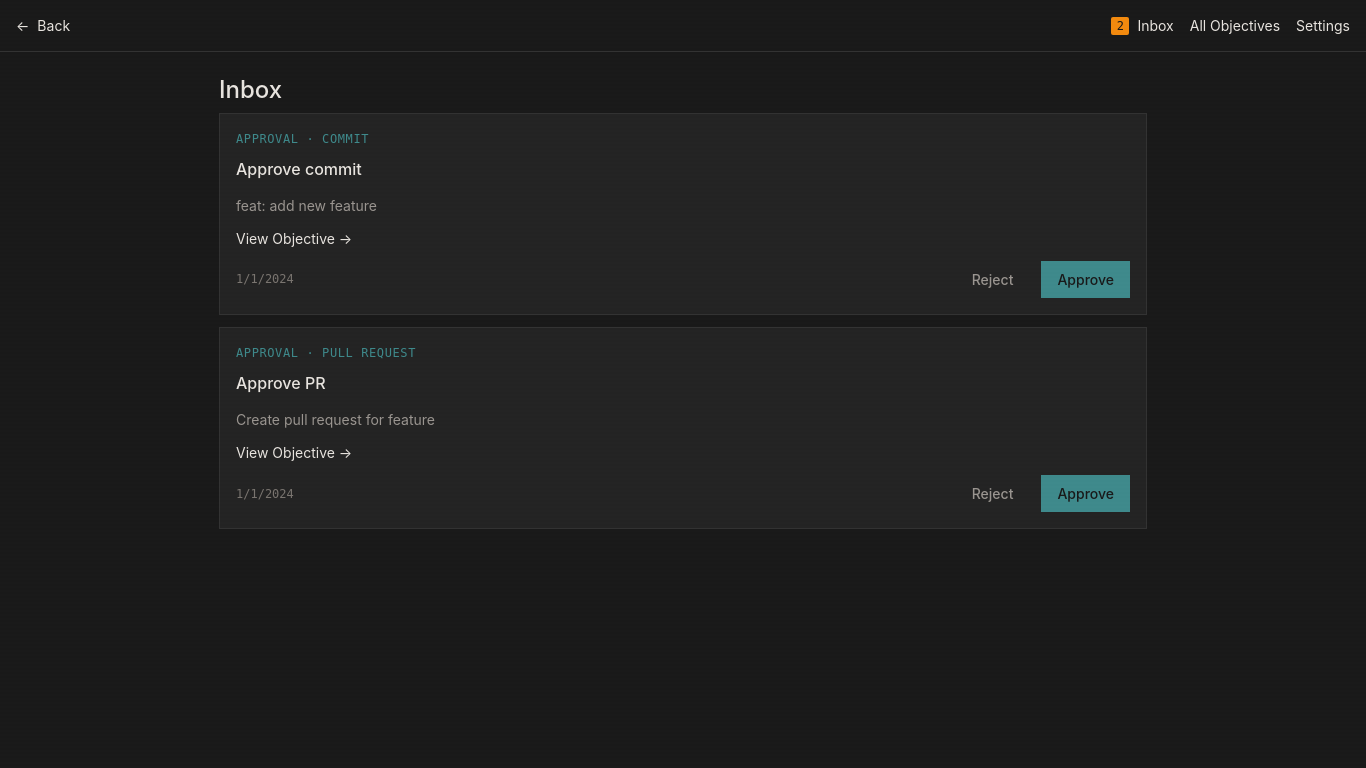
Test case: Inbox › approve action › shows error toast on approve failure
Click the 1st button "Approve". click: coordinates (1086, 280)
box: 1041,261 -> 1130,298
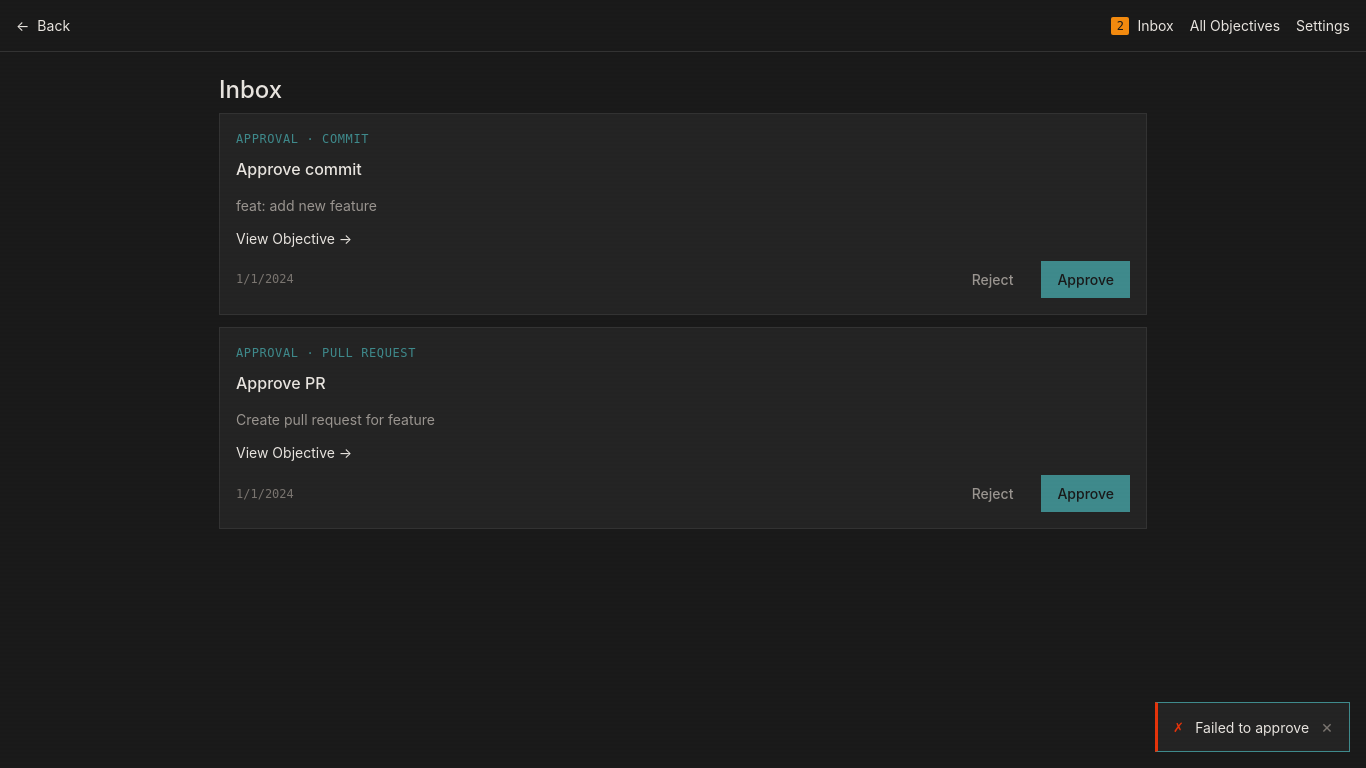
Result: the text "Failed to approve" is shown at 1195,716 -> 1309,738
